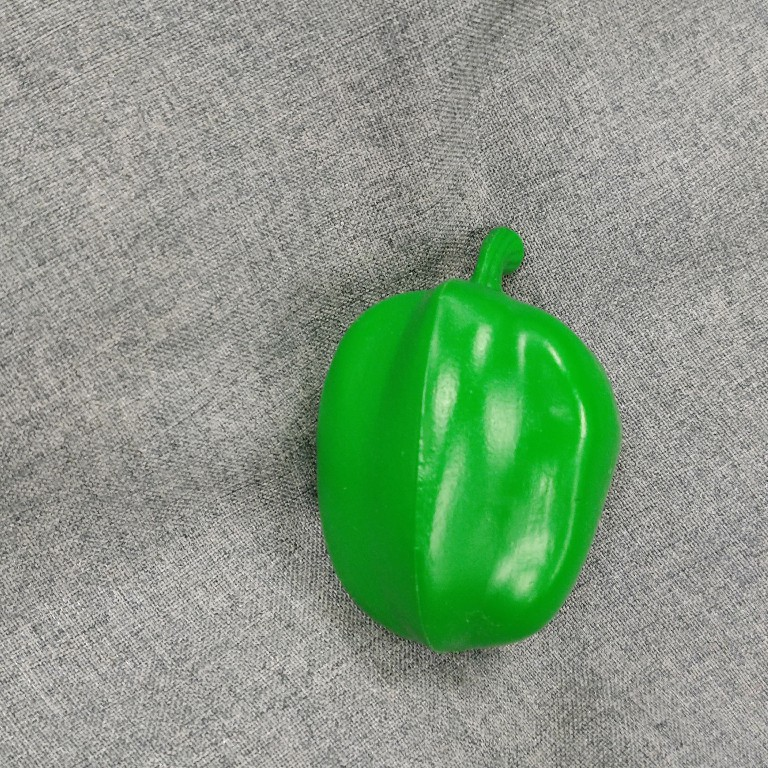fruit_pepper: (313, 221, 622, 661)
